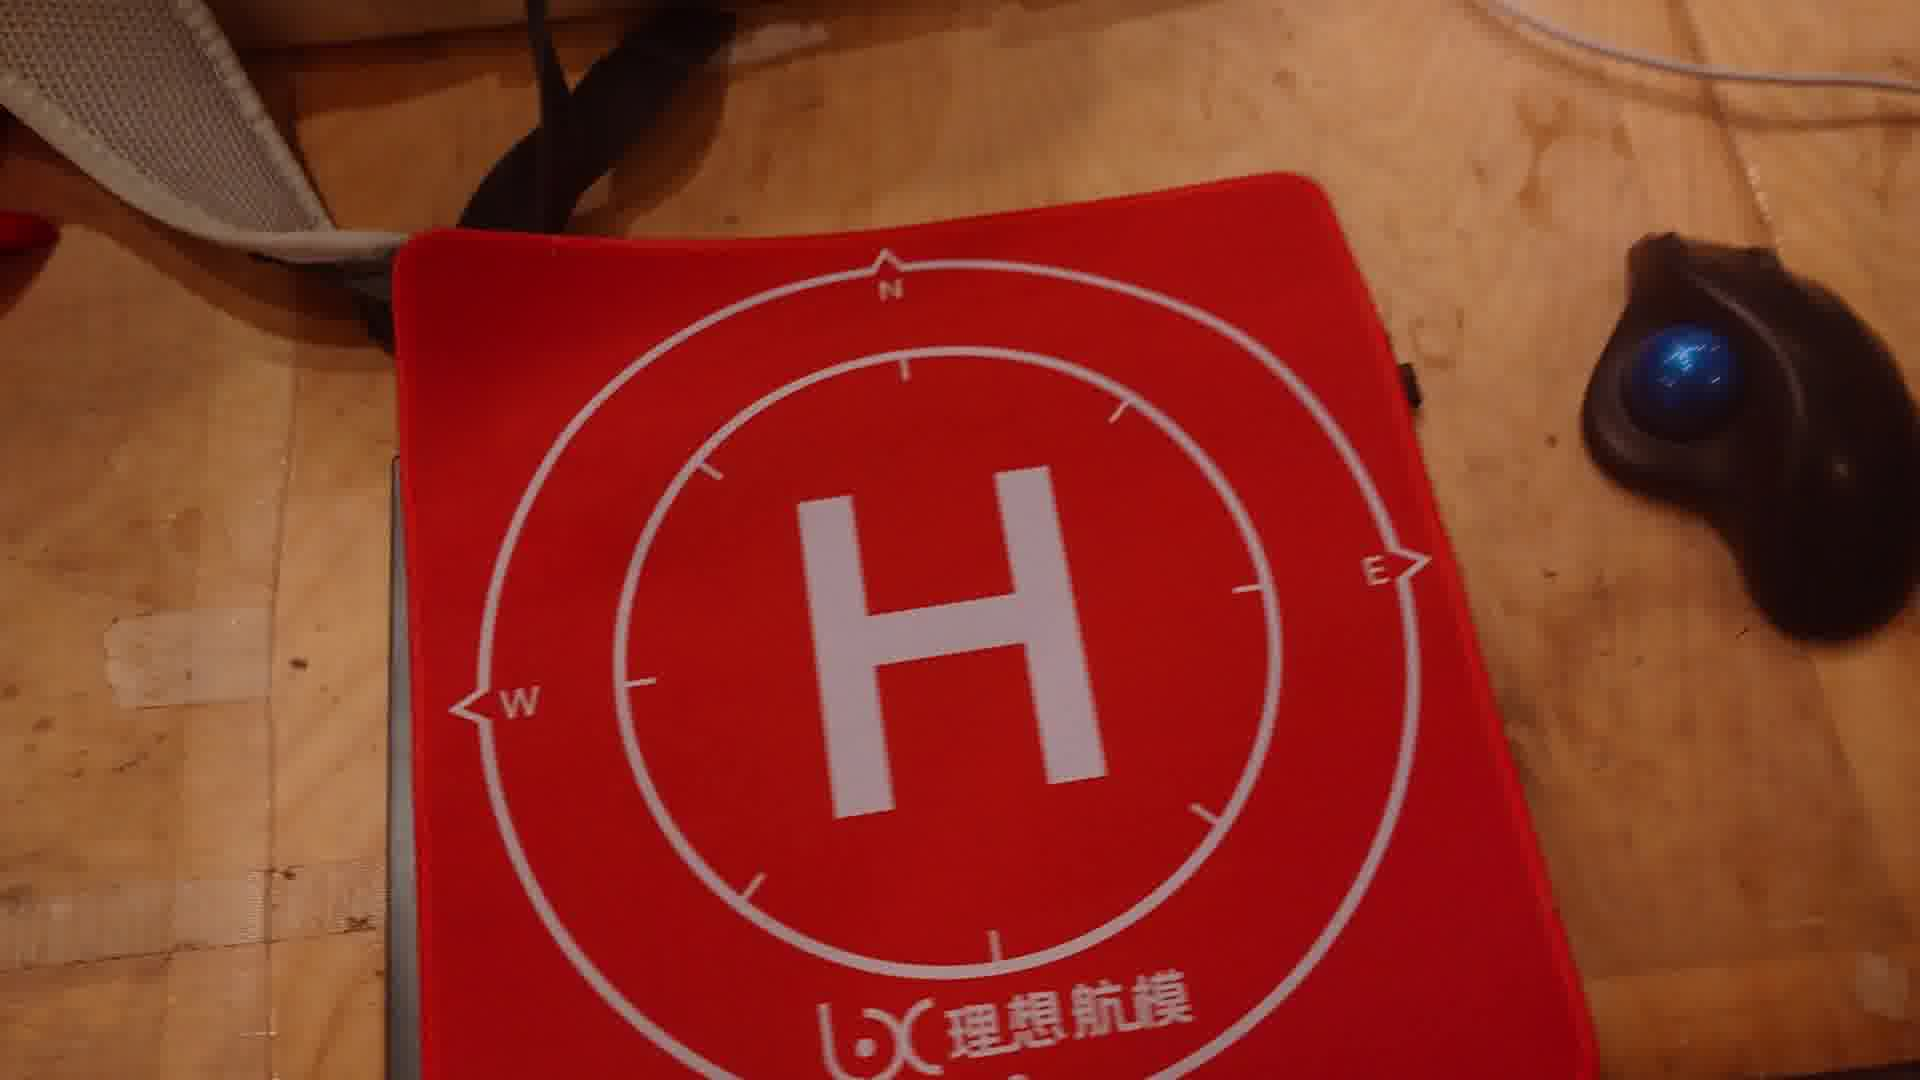H: (793, 462, 1112, 820)
